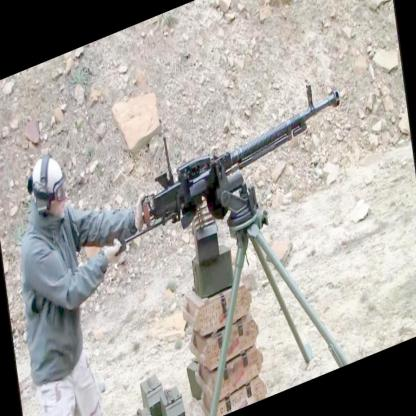rifle: (146, 82, 354, 228)
